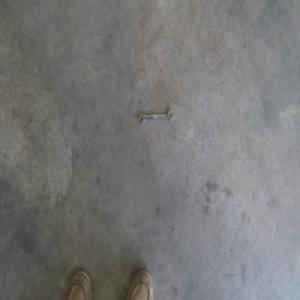Wrench: (137, 109, 173, 126)
